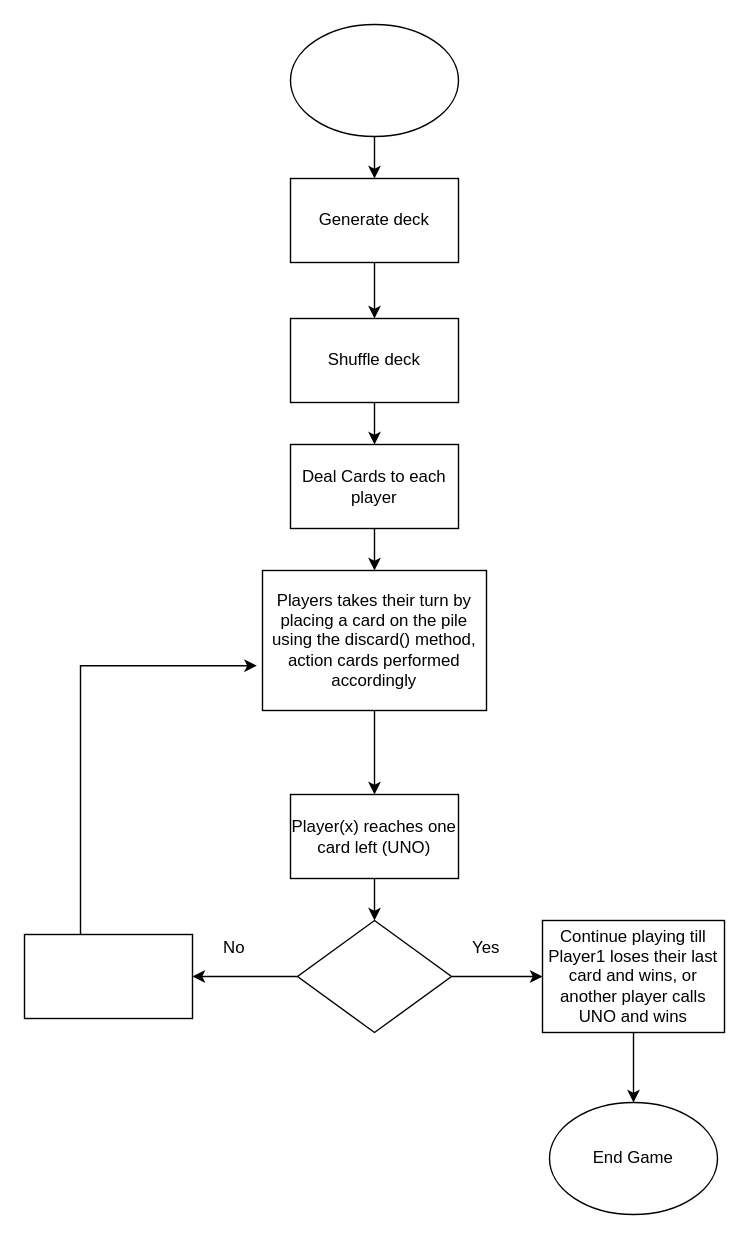
The diagram is 749 pixels wide and 1239 high, and some of its shapes have lost their labels. The shapes that lost their labels are listed below. From the top down, each one's centre as x and y in pixels, then its label:
At (373,79): "Start Game (Multiplayer)".
At (107,975): "Player1 draws a card".
At (373,975): "Does player(x) call uno?".
